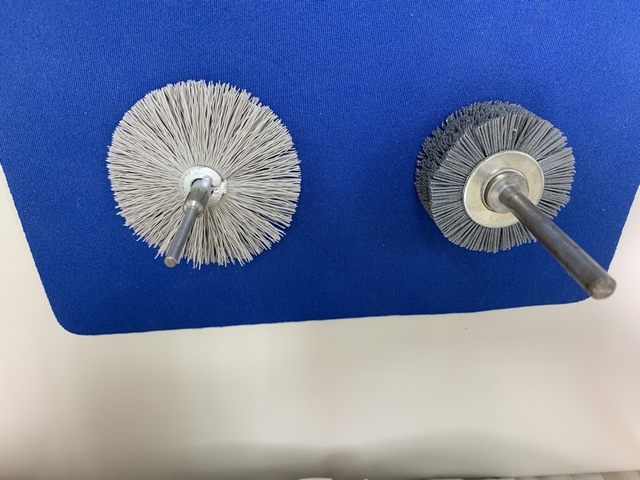TOOL: (101, 77, 307, 268), (137, 80, 308, 271), (98, 71, 228, 273), (100, 164, 314, 276), (97, 72, 305, 179)
Wheel Brush: (411, 90, 625, 316), (463, 89, 619, 297), (414, 89, 556, 278), (412, 164, 584, 293), (412, 91, 582, 210)
